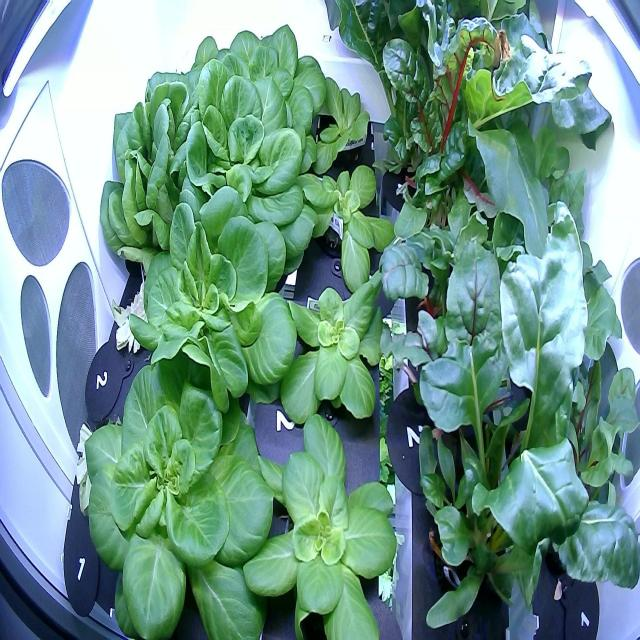Ready: (91, 28, 224, 280), (162, 71, 318, 268), (191, 14, 329, 166)
young: (75, 336, 288, 640), (114, 190, 303, 422), (227, 406, 407, 639), (271, 265, 399, 437), (293, 153, 409, 300), (301, 66, 380, 177)
